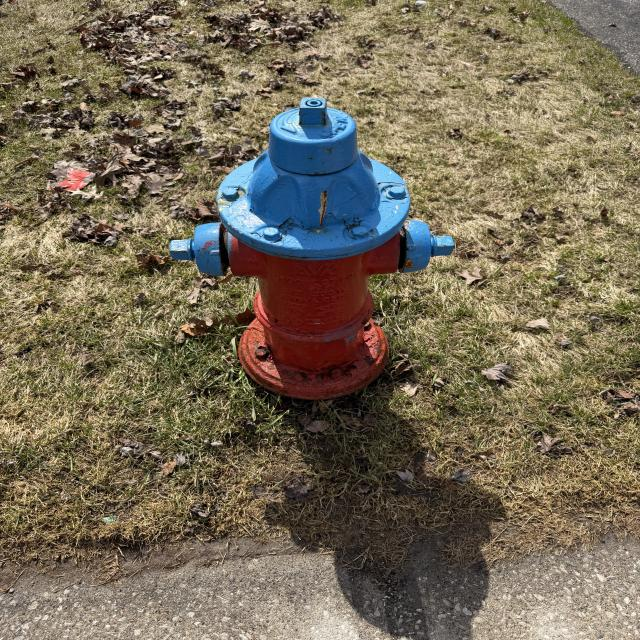Fire hydrant: (168, 97, 456, 401)
